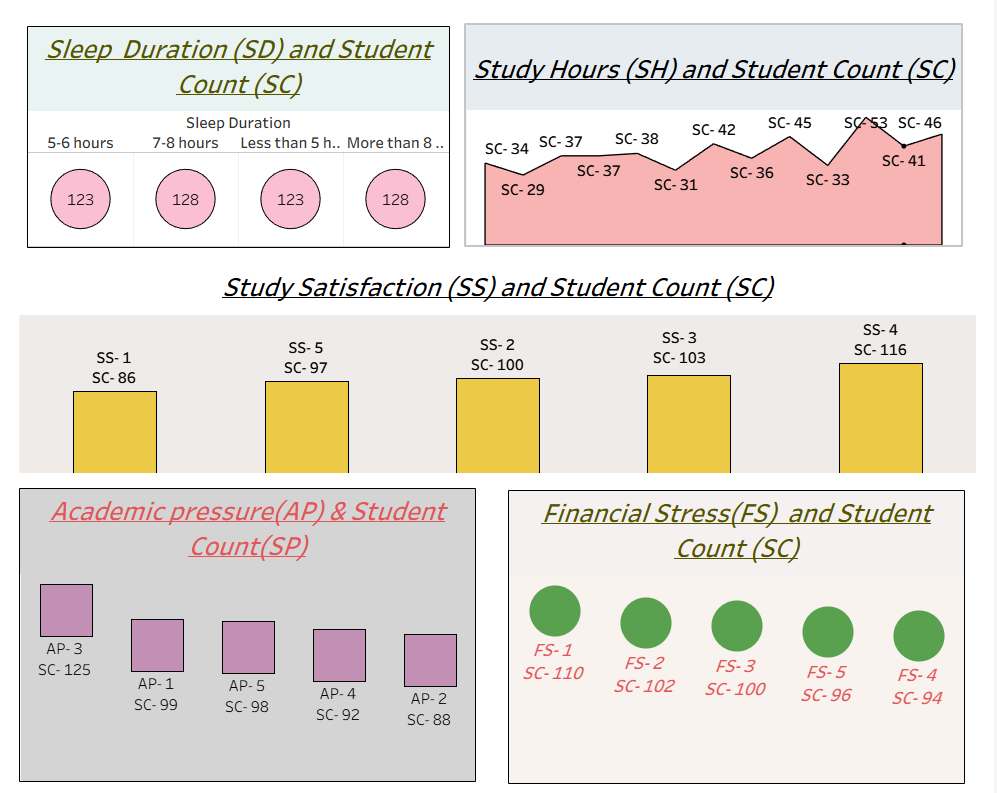

What the dashboard file says about the page in this screenshot:
{"tool":"tableau","page":{"name":"Dashboard 1","canvas":[1000,800],"ordinal":0},"visuals":[{"type":"worksheet","title":"SH and SC","mark":"Area","rows":["Index_Column"],"cols":["Study_Hours"],"box":[472,26,495,220]},{"type":"worksheet","title":"SD and SC","mark":"Pie","cols":["Sleep_Duration"],"box":[33,27,423,222]},{"type":"worksheet","title":"SS and SC ","mark":"Automatic","rows":["Index_Column"],"cols":["Study_Satisfaction"],"box":[25,266,957,208]},{"type":"worksheet","title":"AP and SC","mark":"Square","rows":["Index_Column"],"cols":["Academic_Pressure"],"box":[25,489,457,294]},{"type":"worksheet","title":"FS AND SC","mark":"Circle","rows":["Index_Column"],"cols":["Financial_Stress"],"box":[514,491,457,294]}]}

Visuals, with their boxes in screenshot pixels (x1, y1, x2, y2), scaled from the page's 1000x800 canvas onto the 997x793 screenshot:
"SH and SC" worksheet (Area marks): 471,26,964,244
"SD and SC" worksheet (Pie marks): 33,27,455,247
"SS and SC " worksheet: 25,264,979,470
"AP and SC" worksheet (Square marks): 25,485,481,776
"FS AND SC" worksheet (Circle marks): 512,487,968,778
